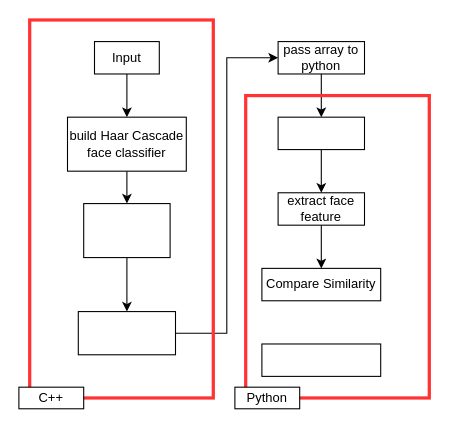
Image size: 449x428. Some labels were removed from this diagram. Each missing label, with the centre of its shape:
"crop the face from whole image" goes at (126,230).
"Output" goes at (321,359).
"put into model" goes at (320,133).
"trans image to array(matrix)" goes at (126,332).
